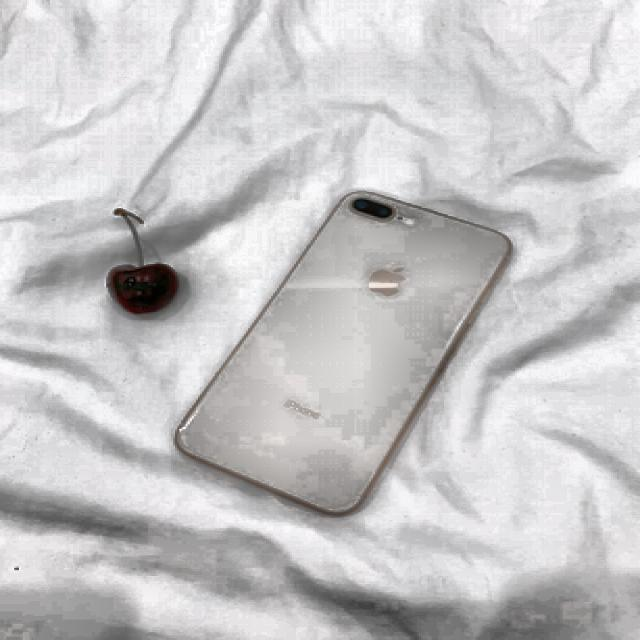Phone: (173, 188, 513, 514)
